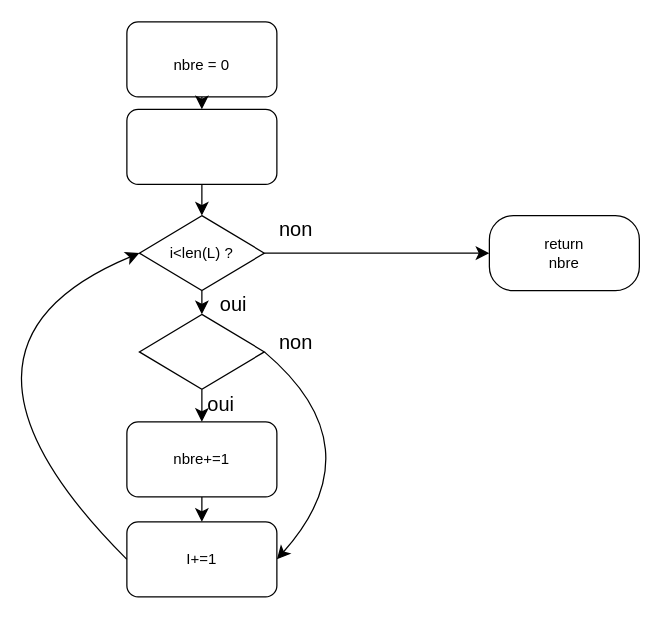
Some shapes in this 663 by 619 pixel diagram are drawn without their labels. Each missing label, with the box of its shape:
i = 0: (126, 108, 277, 184)
L[i]==x ?: (138, 313, 264, 389)
